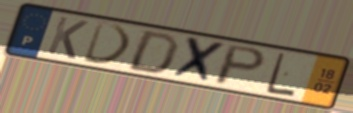D: (124, 29, 182, 76), (81, 19, 134, 67)
K: (44, 14, 91, 62)
L: (264, 51, 298, 99)
P: (211, 43, 269, 87)
X: (168, 34, 230, 86)
